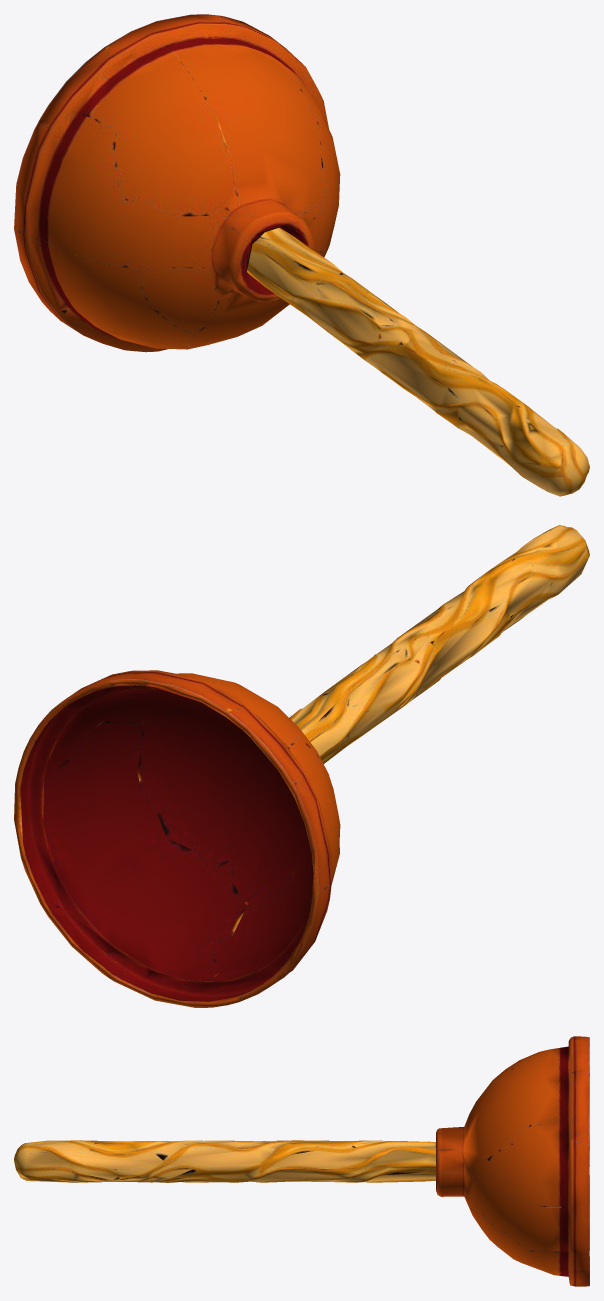
The model's file is plunger.glb.
3 renders of one model, top to bottom at view 1: azimuth 30°, elevation 25°; view 2: azimuth 150°, elevation 25°; view 3: azimuth 270°, elevation 25°, orthographic. The views are drawn at different scales.
Parts seen in each view (by area): view 1: geometry_0; view 2: geometry_0; view 3: geometry_0.
Part boxes in pixels (bbox=[...]): geometry_0: bbox=[14, 14, 589, 496]; geometry_0: bbox=[14, 525, 589, 1007]; geometry_0: bbox=[14, 1036, 589, 1286].
Size of the model in its own units: 0.2376 by 0.2371 by 0.55.
1 material, 1 textured.
